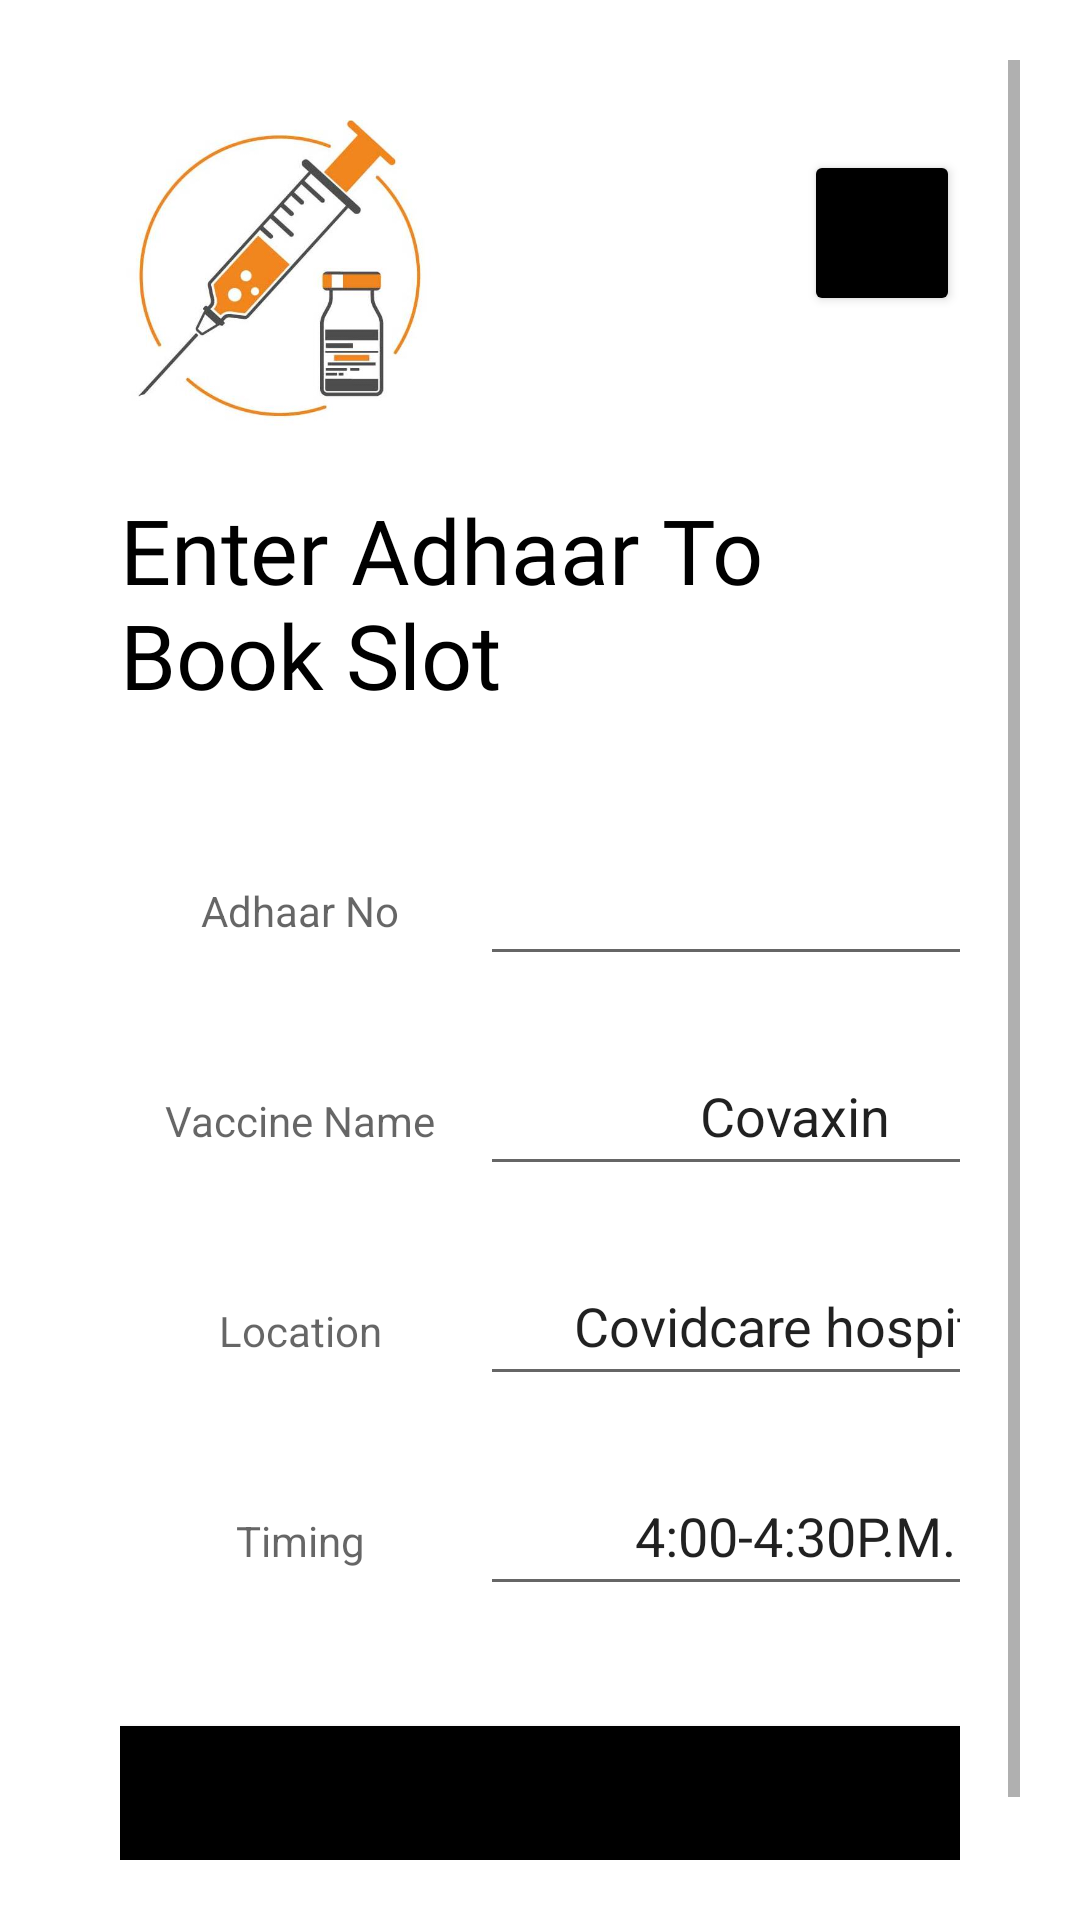

Named icons in this screenshot (1080w x 1920h) and their bounding boxes, (x1, y1, x2, y2):
vacbacrop: (138, 120, 421, 417)
